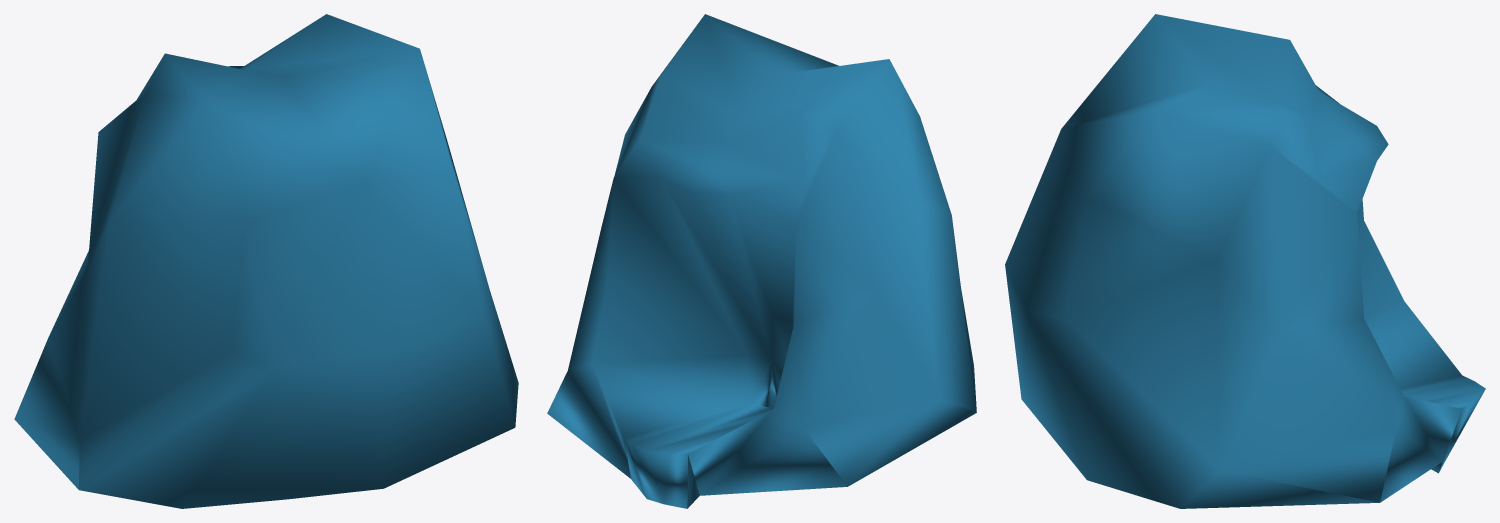
Rendered from MnhrHelmet_Ground.fbx.
3 renders of one model, left to right at view 1: azimuth 30°, elevation 25°; view 2: azimuth 150°, elevation 25°; view 3: azimuth 270°, elevation 25°, orthographic. The views are drawn at different scales.
Parts seen in each view (by area): view 1: Headpiece.002; view 2: Headpiece.002; view 3: Headpiece.002.
Part boxes in pixels (x1,y1,x2,y2): Headpiece.002: (14,14,518,508); Headpiece.002: (547,14,976,508); Headpiece.002: (1005,14,1485,508).
Size of the model in its own units: 0.2142 by 0.2027 by 0.2112.
